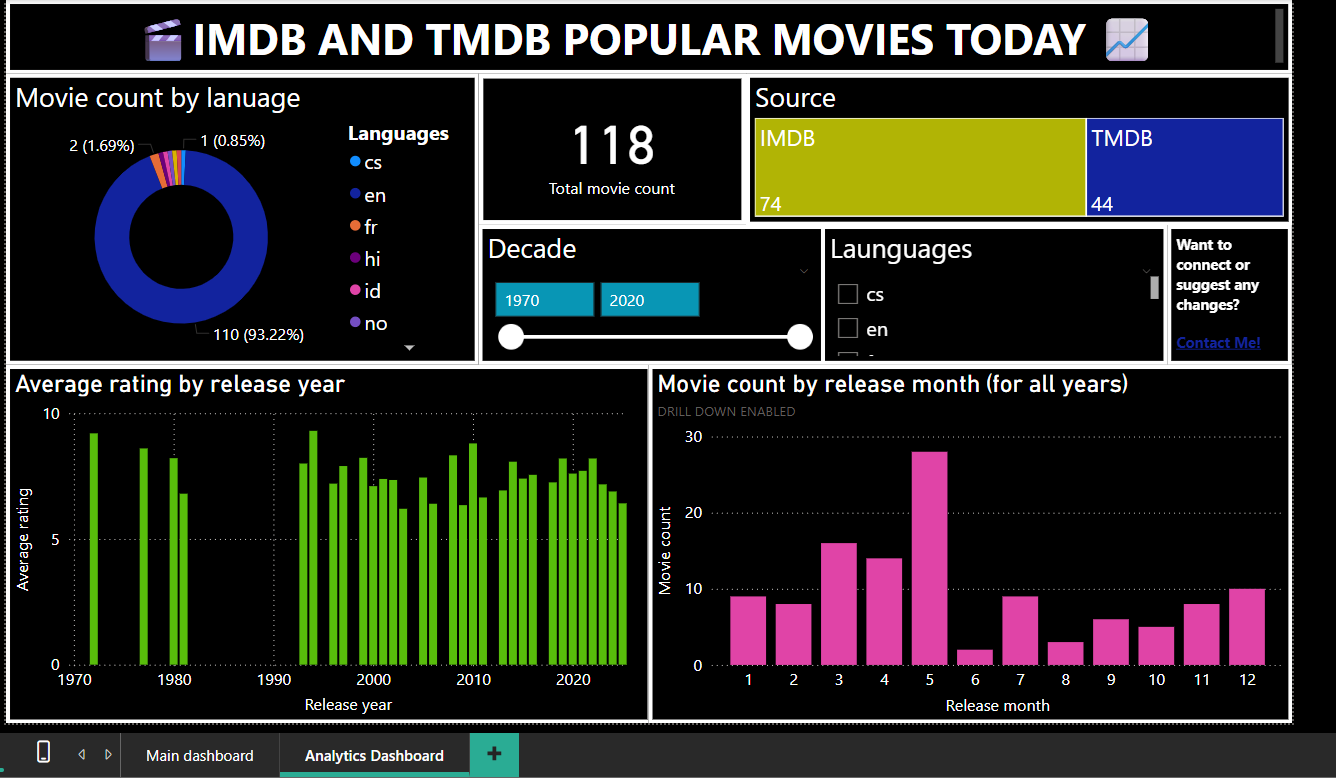

The dashboard page shown, as its layout file describes it:
{"tool":"powerbi","page":{"name":"Analytics Dashboard","canvas":[1280,720],"ordinal":1},"visuals":[{"type":"textbox","box":[0,0,1280,73.4],"z":0},{"type":"columnChart","title":"Average rating by release year","fields":{"Y":["Avg(Sheet1.rating)"],"Category":["Sheet1.release_year"]},"box":[0,363.2,642,357],"z":1000},{"type":"clusteredColumnChart","title":"Movie count by release month (for all years)","fields":{"Category":["Sheet1.release_month","Sheet1.title"],"Y":["CountNonNull(Sheet1.release_month)"]},"box":[639.4,363.2,641,357],"z":2000},{"type":"donutChart","title":"Movie count by lanuage","fields":{"Series":["Sheet1.language"],"Y":["CountNonNull(Sheet1.title)"]},"box":[0,73.4,470.2,289.8],"z":3000},{"type":"card","fields":{"Values":["Sheet1.total_movie_count"]},"box":[470.2,73.4,266.2,150.5],"z":3002},{"type":"treemap","title":"Source","fields":{"Group":["Sheet1.source"],"Values":["CountNonNull(Sheet1.source)"]},"box":[736,73,544,151],"z":3003},{"type":"slicer","title":"Decade","fields":{"Values":["Sheet1.decade"]},"box":[470.2,223.9,345,139.3],"z":3004},{"type":"slicer","title":"Launguages","fields":{"Values":["Sheet1.language"]},"box":[811.1,223.9,345,139.3],"z":3005},{"type":"textbox","box":[1155.6,223.9,124.4,139.3],"z":3006}]}

Visuals, with their boxes in screenshot pixels (x1, y1, x2, y2):
textbox: box(14, 0, 1285, 73)
"Average rating by release year" columnChart: box(14, 361, 651, 715)
"Movie count by release month (for all years)" clusteredColumnChart: box(649, 361, 1285, 715)
"Movie count by lanuage" donutChart: box(14, 73, 481, 361)
card - Sheet1.total_movie_count: box(481, 73, 745, 222)
"Source" treemap: box(745, 72, 1285, 222)
"Decade" slicer: box(481, 222, 823, 361)
"Launguages" slicer: box(819, 222, 1162, 361)
textbox: box(1161, 222, 1285, 361)
